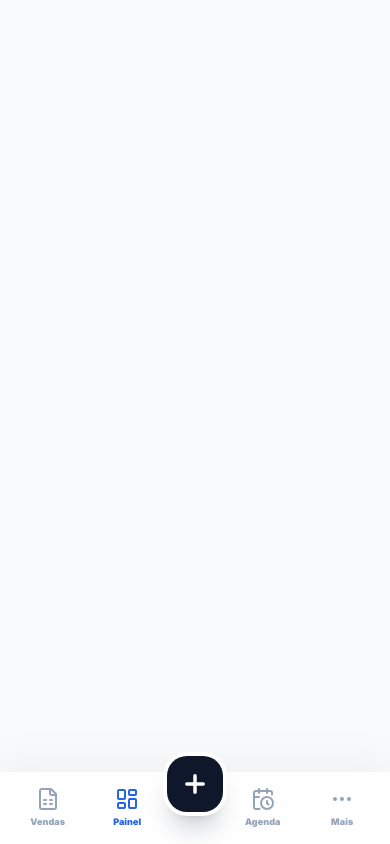
Scenario: BottomNav › exposes secondary modules through Mais
What coordinates should you click on to do the following:
click the button with aria-label "Mais módulos"
I would click on:
 (342, 808)
Its box is [302, 772, 382, 843].
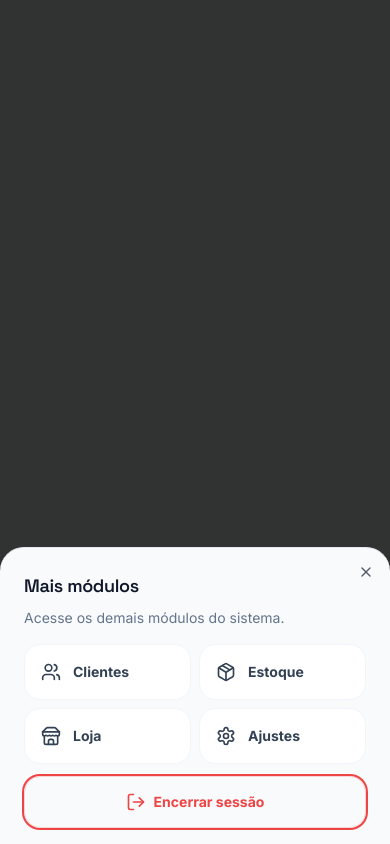
expect the link "Clientes" is shown: met, box [24, 644, 191, 700]
expect the link "Estoque" is shown: met, box [199, 644, 366, 700]
expect the link "Ajustes" is shown: met, box [199, 708, 366, 764]
